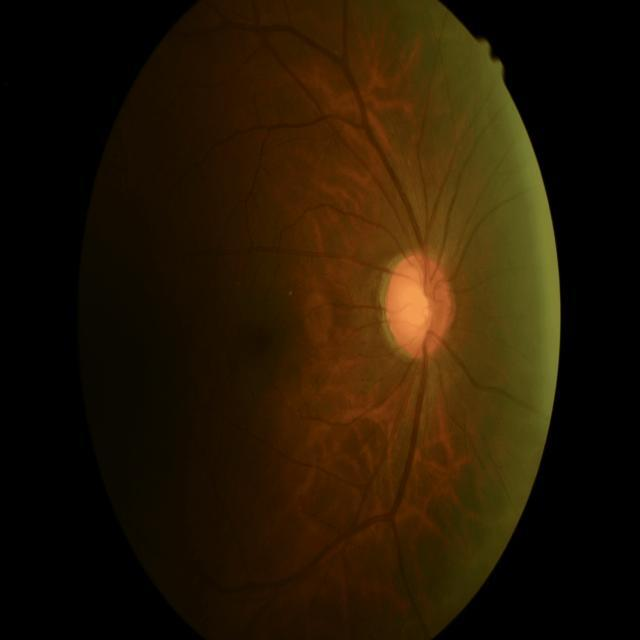cup: (398, 268, 441, 344)
disk: (384, 254, 458, 358)
